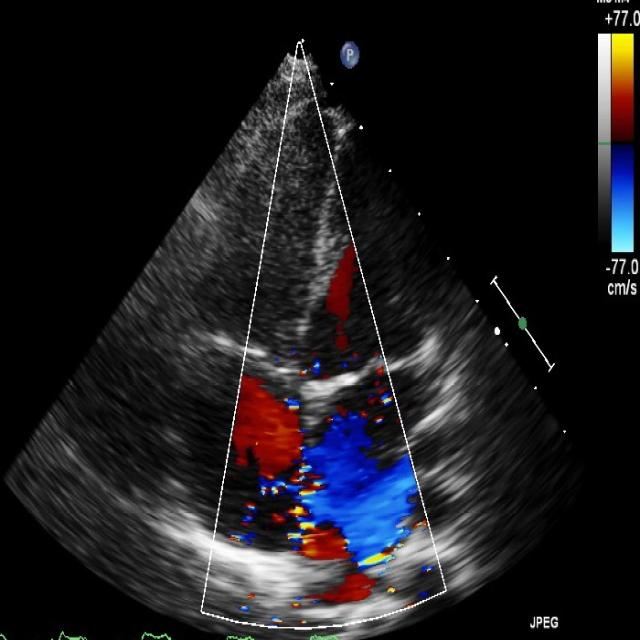ASDType2: (228, 372, 414, 609)
